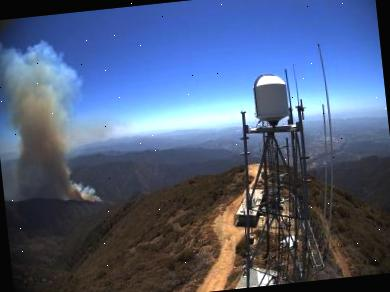smoke: (0, 31, 104, 212)
